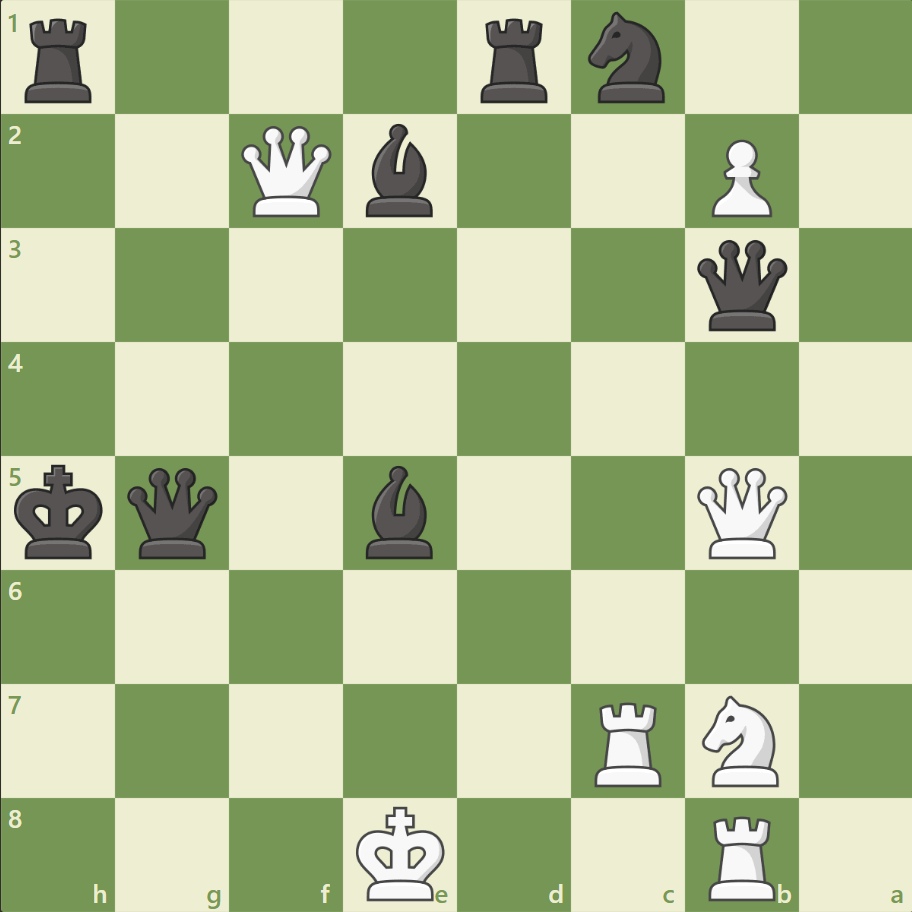K: (351, 798, 451, 906)
N: (692, 688, 789, 791)
P: (701, 132, 776, 223)
Q: (237, 122, 336, 222), (691, 463, 790, 562)
R: (700, 806, 783, 904), (587, 693, 670, 790)
b: (358, 460, 442, 563), (358, 120, 442, 222)
k: (11, 458, 111, 566)
n: (579, 7, 676, 110)
q: (124, 463, 223, 562), (691, 236, 790, 335)
r: (473, 12, 556, 109), (19, 12, 102, 109)
